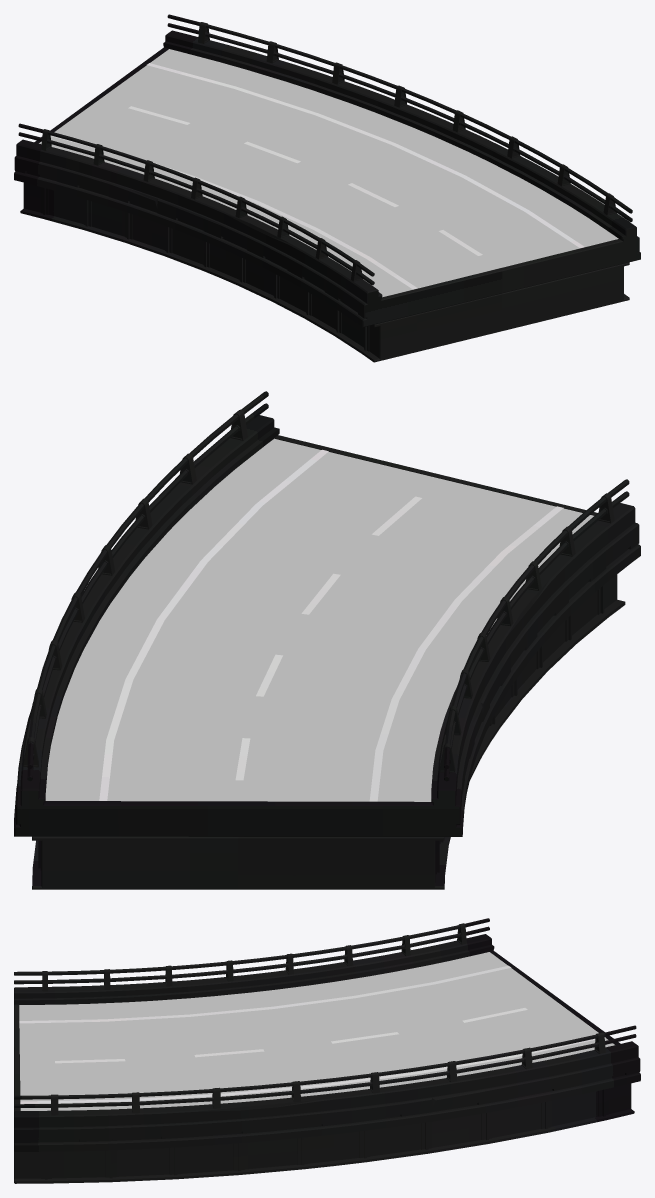
Rendered from Highway_Segment04.fbx.
3 renders of one model, top to bottom at view 1: azimuth 30°, elevation 25°; view 2: azimuth 150°, elevation 25°; view 3: azimuth 270°, elevation 25°, orthographic. The views are drawn at different scales.
Visible parts, largest first — view 1: SM_City_Highway_Segment_02b.mo; view 2: SM_City_Highway_Segment_02b.mo; view 3: SM_City_Highway_Segment_02b.mo.
Boxes of the visible parts, x1=… form: SM_City_Highway_Segment_02b.mo: x1=14, y1=14, x2=640, y2=362; SM_City_Highway_Segment_02b.mo: x1=14, y1=391, x2=640, y2=889; SM_City_Highway_Segment_02b.mo: x1=14, y1=918, x2=640, y2=1183.
Bounding box in the file's own units: 1537 × 342 × 2183.
